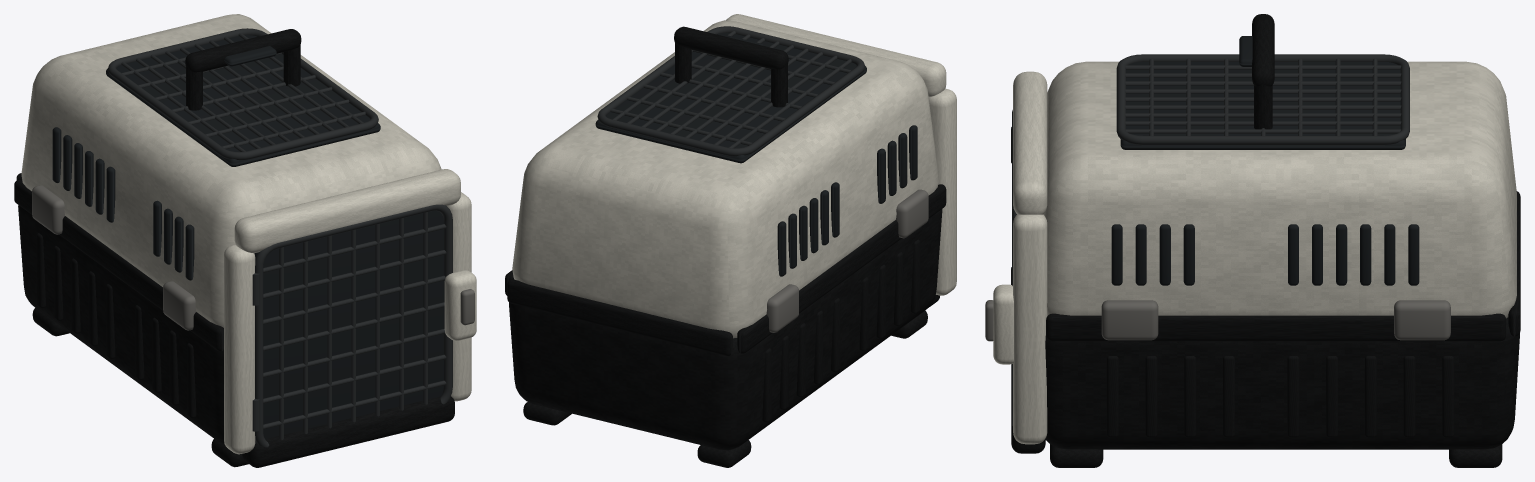
The model's file is MissionPetCarrierCargo_LOD00.gltf.
3 views of the same model, side by side, from view 1: azimuth 30°, elevation 25°; view 2: azimuth 150°, elevation 25°; view 3: azimuth 270°, elevation 25° (orthographic). The views are drawn at different scales.
Parts seen in each view (by area): view 1: PetCarrierCargo; view 2: PetCarrierCargo; view 3: PetCarrierCargo.
Part boxes in pixels (box(x1,y1,x2,y2)): PetCarrierCargo: box(14, 14, 476, 467); PetCarrierCargo: box(505, 14, 956, 467); PetCarrierCargo: box(985, 14, 1520, 467).
Bounding box in the file's own units: 0.388 × 0.477 × 0.622.
Materials: 5 (2 with a texture image).
